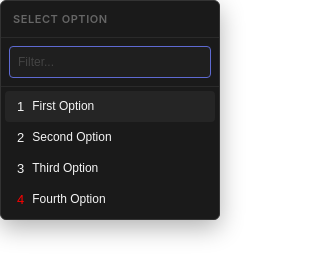
Scenario: PropertyPicker › filters options by query input
Type "first" into the field with placeholder "Filter...". click: (110, 62)
box: [9,46,211,78]
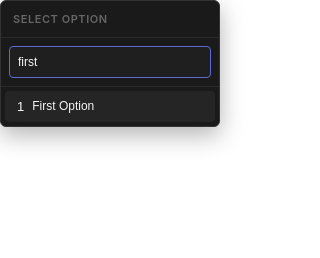
Expected: the button "Second Option" is gone
Expected: the button "Third Option" is gone
Expected: the button "Fourth Option" is gone
